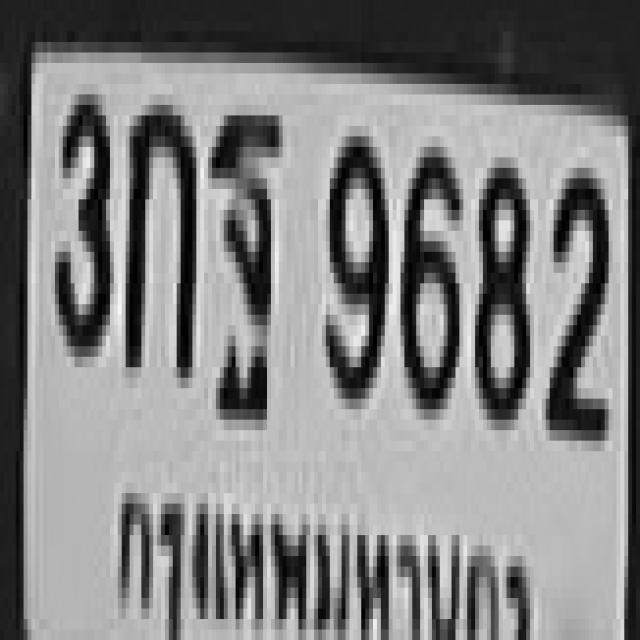10GorGai: (122, 95, 192, 368)
2: (542, 157, 605, 430)
25ThorThan: (208, 105, 279, 388)
3: (51, 84, 106, 346)
6: (396, 136, 456, 410)
8: (471, 147, 526, 420)
9: (322, 126, 385, 399)
Bangkok: (101, 462, 530, 640)
